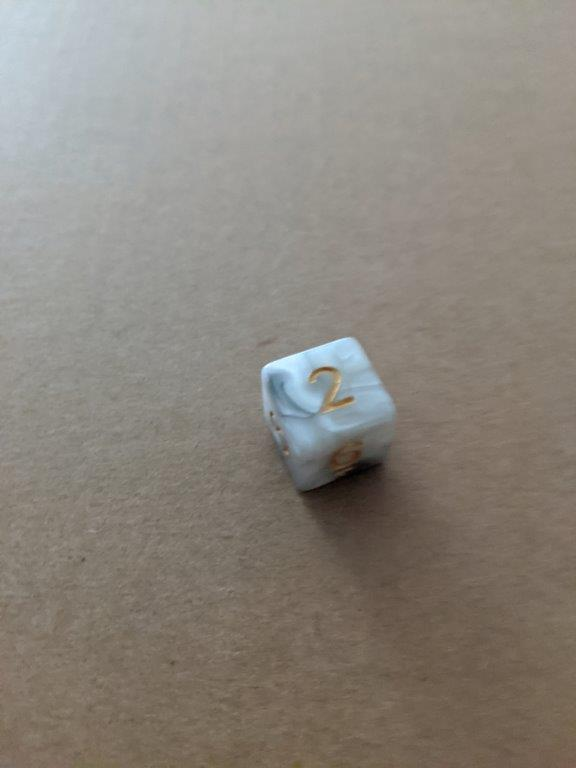d6-2: (260, 334, 398, 493)
